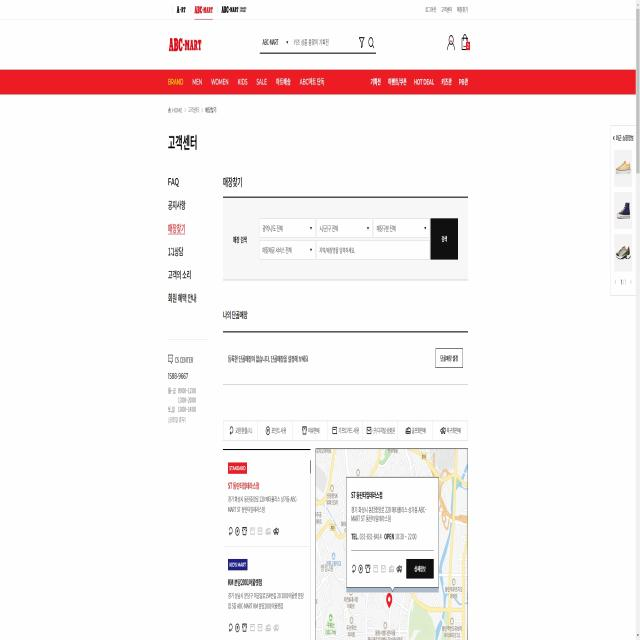menu-bar: (442, 28, 473, 58)
menu-panel: (160, 126, 210, 320)
search: (227, 200, 463, 274), (257, 30, 378, 60)
tab-bar: (164, 72, 330, 93)
